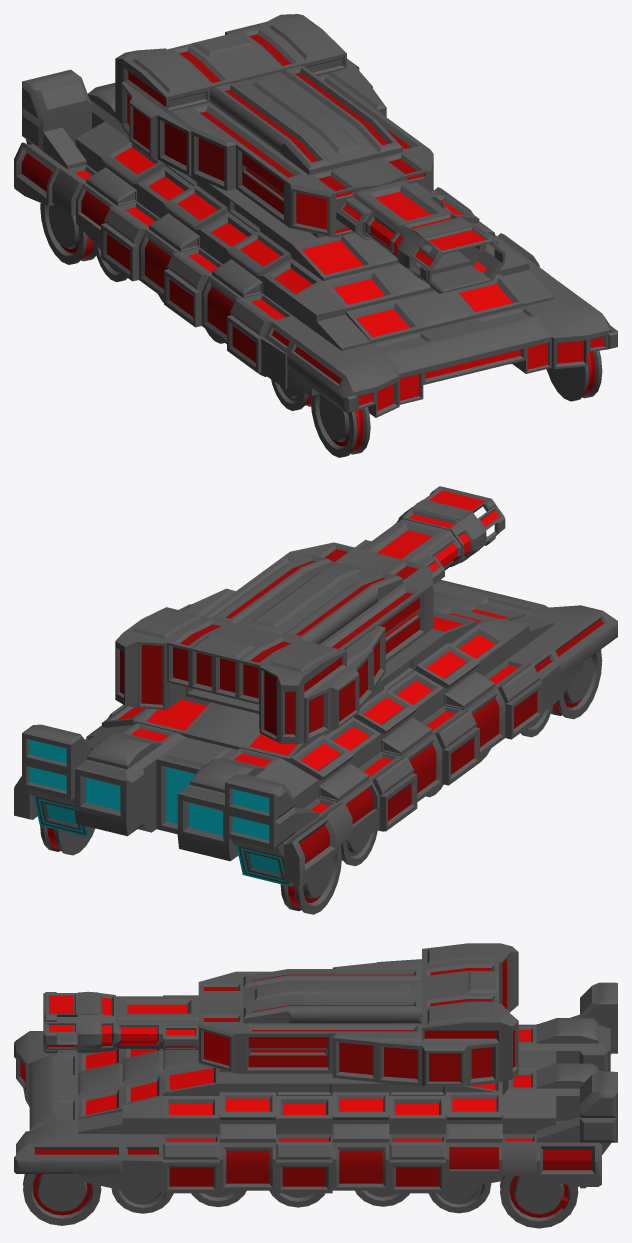
The model's file is T_TANKKKKK.fbx.
The picture shows the model from 3 angles, top to bottom: view 1: azimuth 30°, elevation 25°; view 2: azimuth 150°, elevation 25°; view 3: azimuth 270°, elevation 25°; orthographic projection. The views are drawn at different scales.
Parts seen in each view (by area): view 1: pCube1, pCube2, pCylinder4, pCylinder1, pCylinder3, pCylinder23; view 2: pCube1, pCube2, pCylinder1, pCylinder4, pCylinder2, pCylinder19; view 3: pCube1, pCube2, pCylinder3, pCylinder2, pCylinder10, pCylinder18, pCylinder17, pCylinder15, pCylinder16.
Part boxes in pixels (box(x1,y1,x2,y2)): pCube1: box(14, 22, 617, 417); pCube2: box(115, 14, 505, 293); pCylinder4: box(310, 394, 370, 457); pCylinder1: box(40, 203, 96, 264); pCylinder3: box(546, 350, 602, 401); pCylinder23: box(271, 379, 311, 410); pCube1: box(14, 579, 617, 886); pCube2: box(115, 486, 505, 744); pCylinder1: box(280, 845, 341, 914); pCylinder4: box(551, 649, 602, 719); pCylinder2: box(40, 825, 95, 855); pCylinder19: box(341, 831, 377, 866); pCube1: box(14, 982, 617, 1193); pCube2: box(43, 943, 518, 1086); pCylinder3: box(23, 1174, 101, 1225); pCylinder2: box(500, 1176, 578, 1228); pCylinder10: box(428, 1183, 491, 1213); pCylinder18: box(111, 1188, 173, 1213); pCylinder17: box(355, 1190, 409, 1206); pCylinder15: box(191, 1190, 246, 1207); pCylinder16: box(269, 1190, 325, 1207).
Size of the model in its own units: 579 by 406 by 1166.
